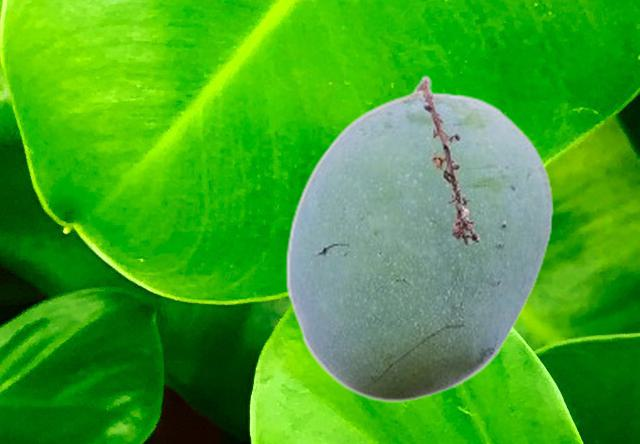green_mango: (285, 75, 553, 401)
